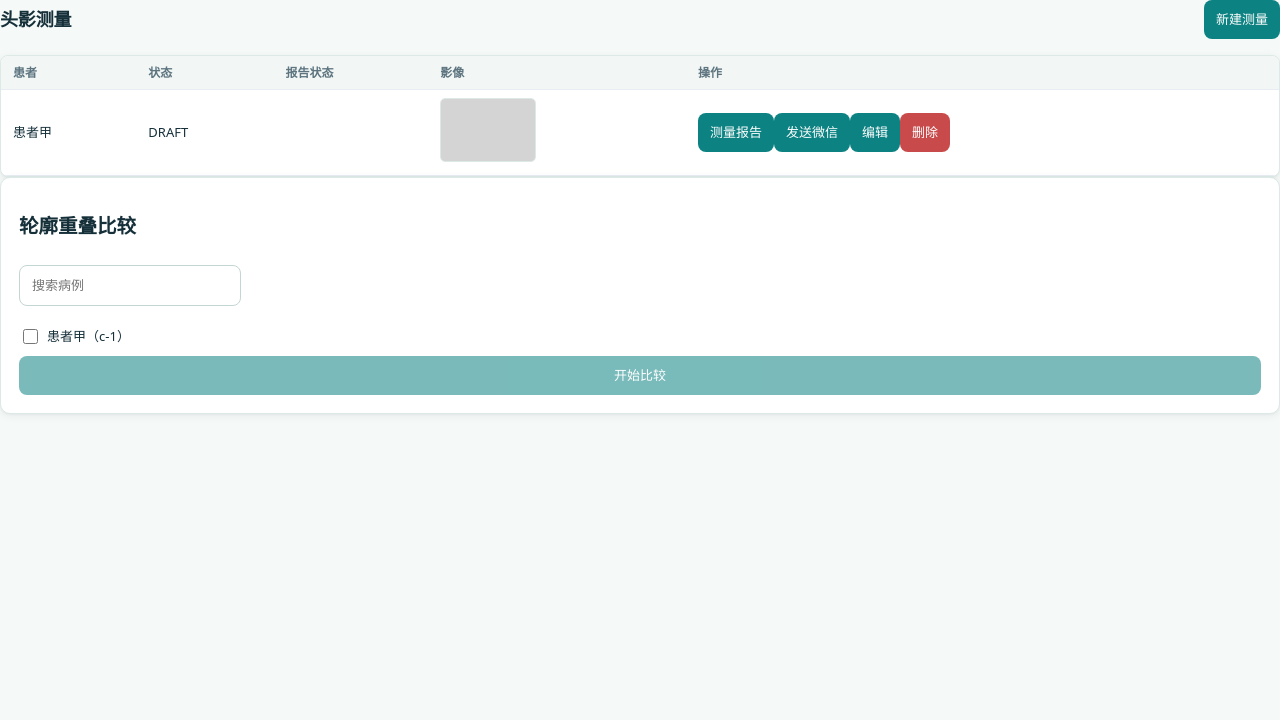
Scenario: CephalometricPage › sends a wechat message through the send dialog
Expected: the text "DRAFT" is shown, left=136, top=90, right=274, bottom=176
Click the button "发送微信" at (812, 133), box left=774, top=113, right=850, bottom=152
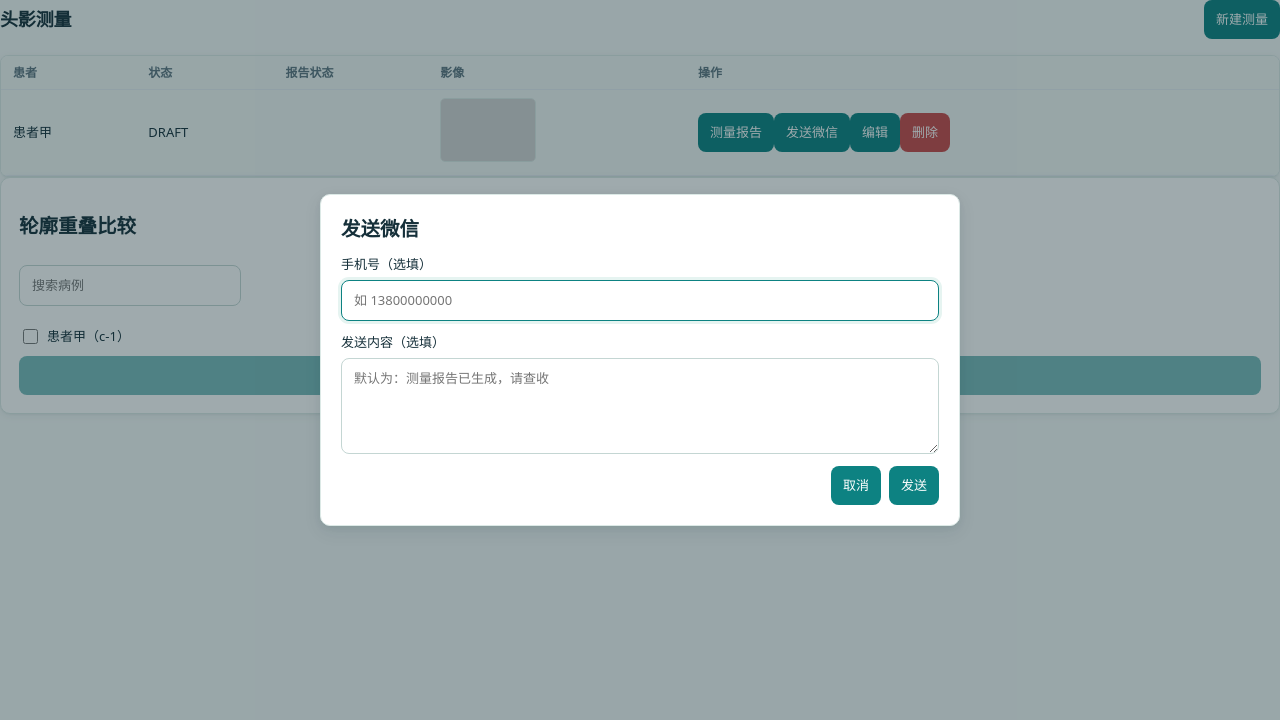
Type "13800000000" into the field labelled "手机号" at (640, 301), box left=341, top=280, right=939, bottom=321
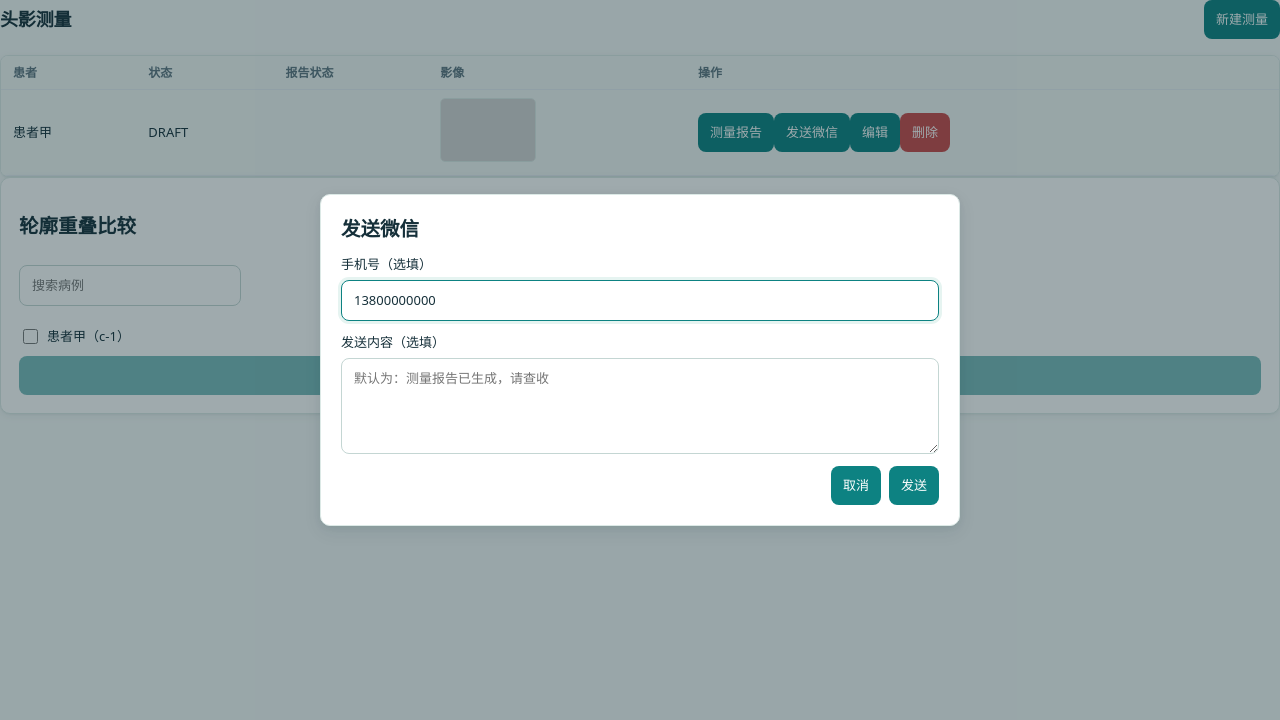
Type "您的测量报告已完成" into the text box labelled "发送内容" at (640, 406), box left=341, top=358, right=939, bottom=454
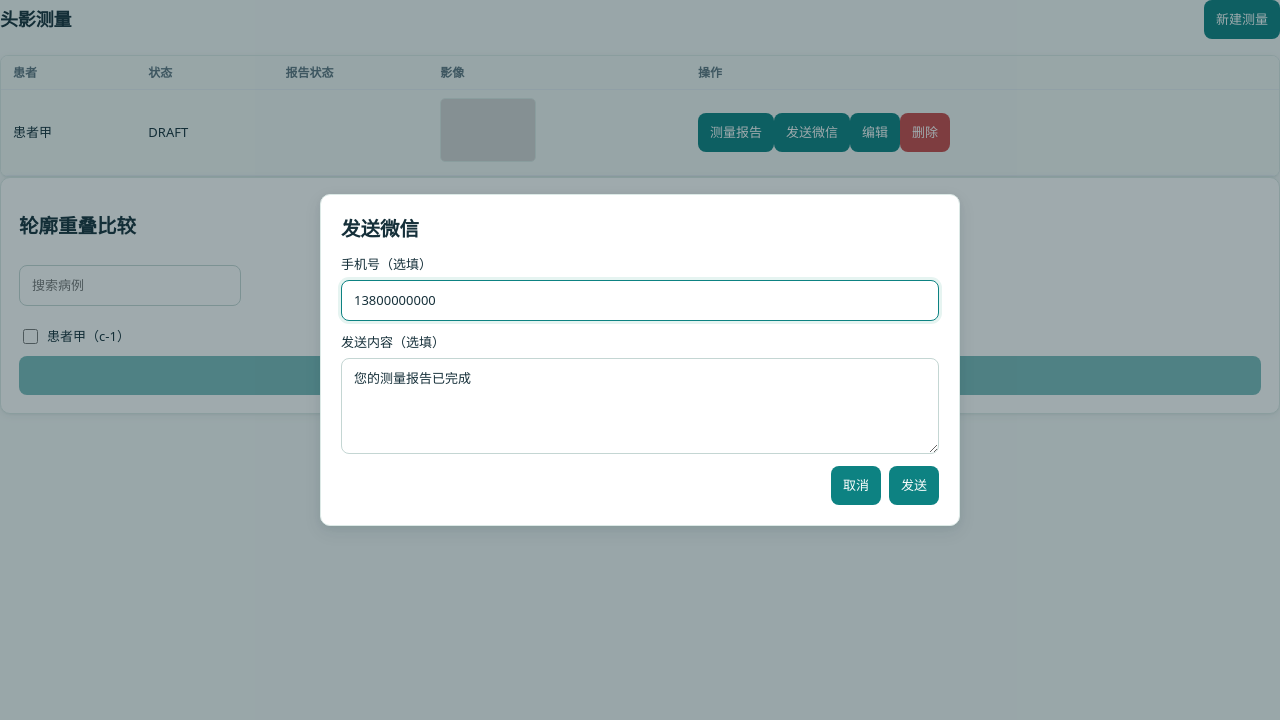
Click the button "发送" at (914, 485), box left=889, top=466, right=939, bottom=505
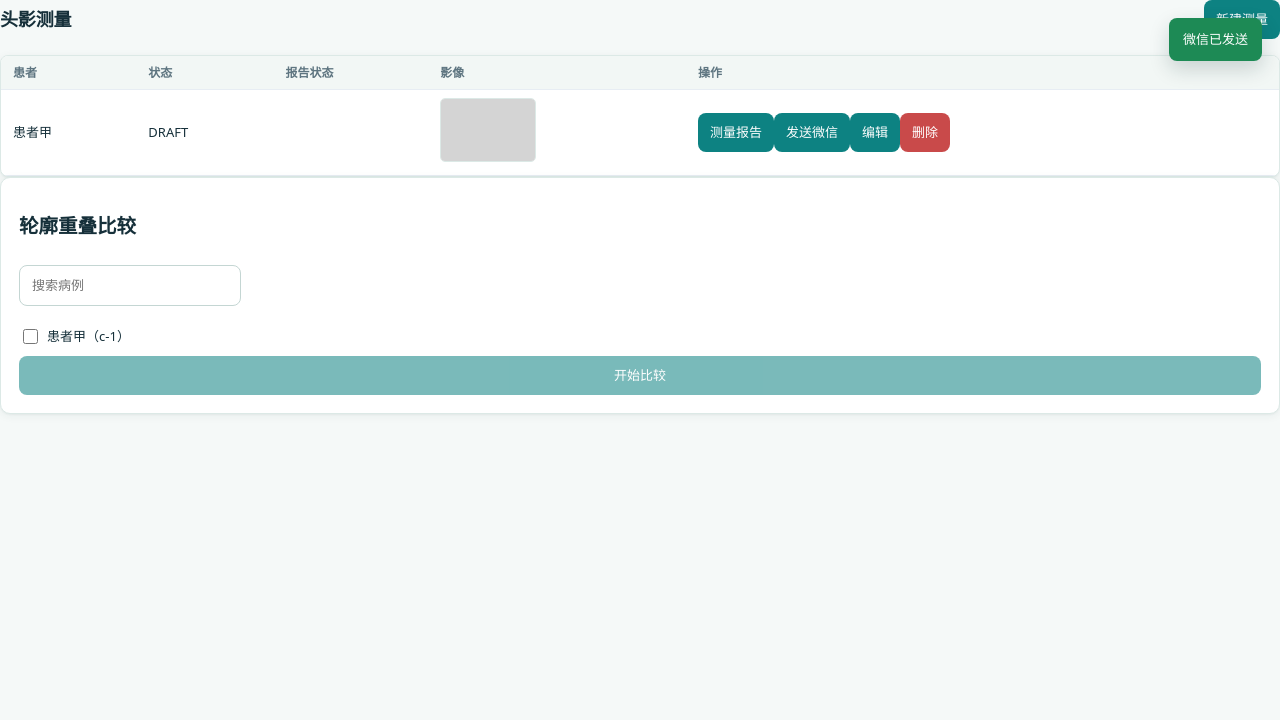
Expected: the text "微信已发送" is shown, left=1169, top=18, right=1262, bottom=61
